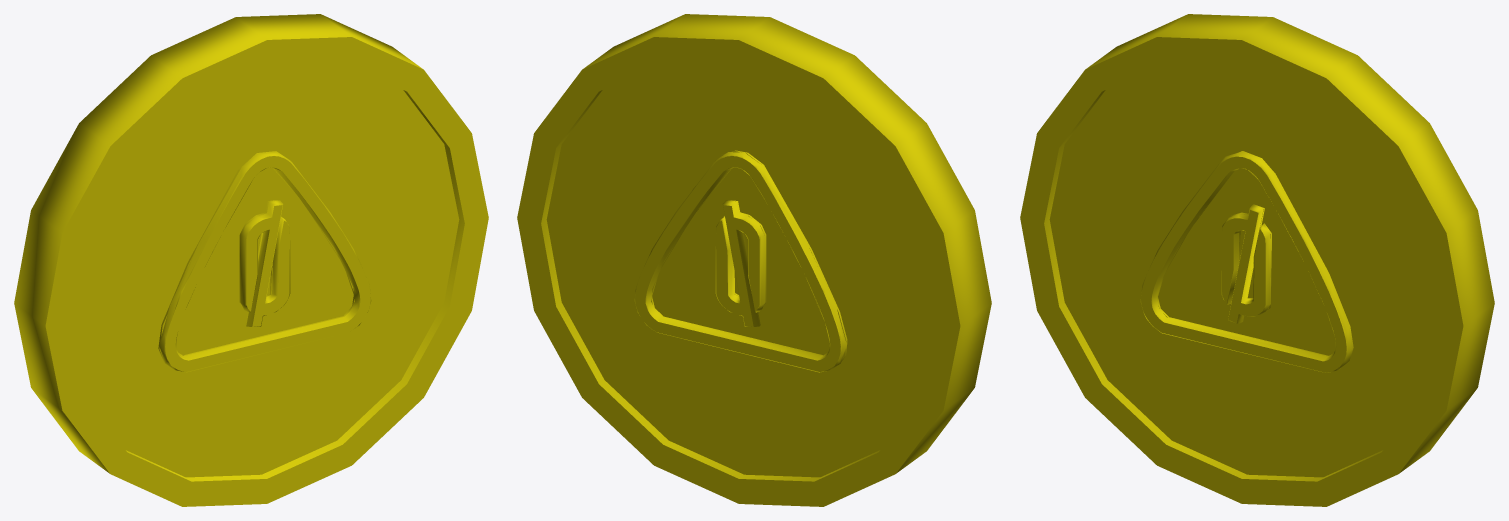
File: coin.fbx
3 views of the same model, side by side, from view 1: azimuth 30°, elevation 25°; view 2: azimuth 150°, elevation 25°; view 3: azimuth 330°, elevation 25° (orthographic).
Parts seen in each view (by area): view 1: Coin; view 2: Coin; view 3: Coin.
Part boxes in pixels (x1,y1,x2,y2): Coin: [14, 14, 488, 506]; Coin: [517, 14, 991, 506]; Coin: [1020, 14, 1494, 506].
Size of the model in its own units: 151 by 151 by 18.57.
